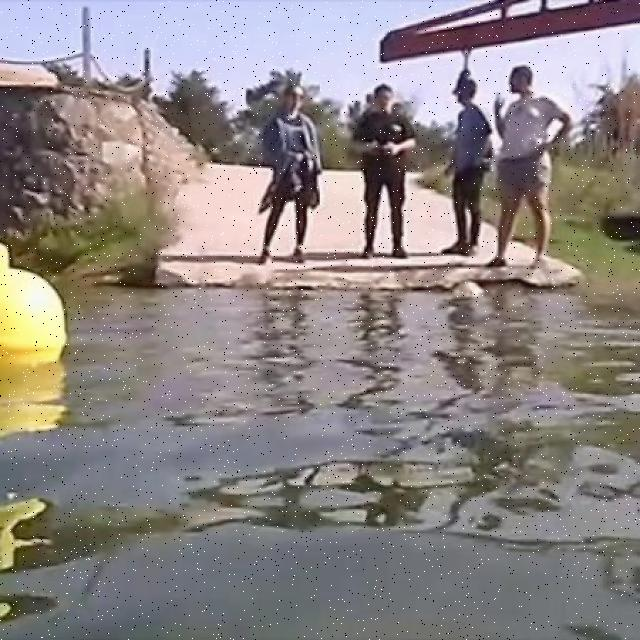buoy: (0, 243, 67, 366)
